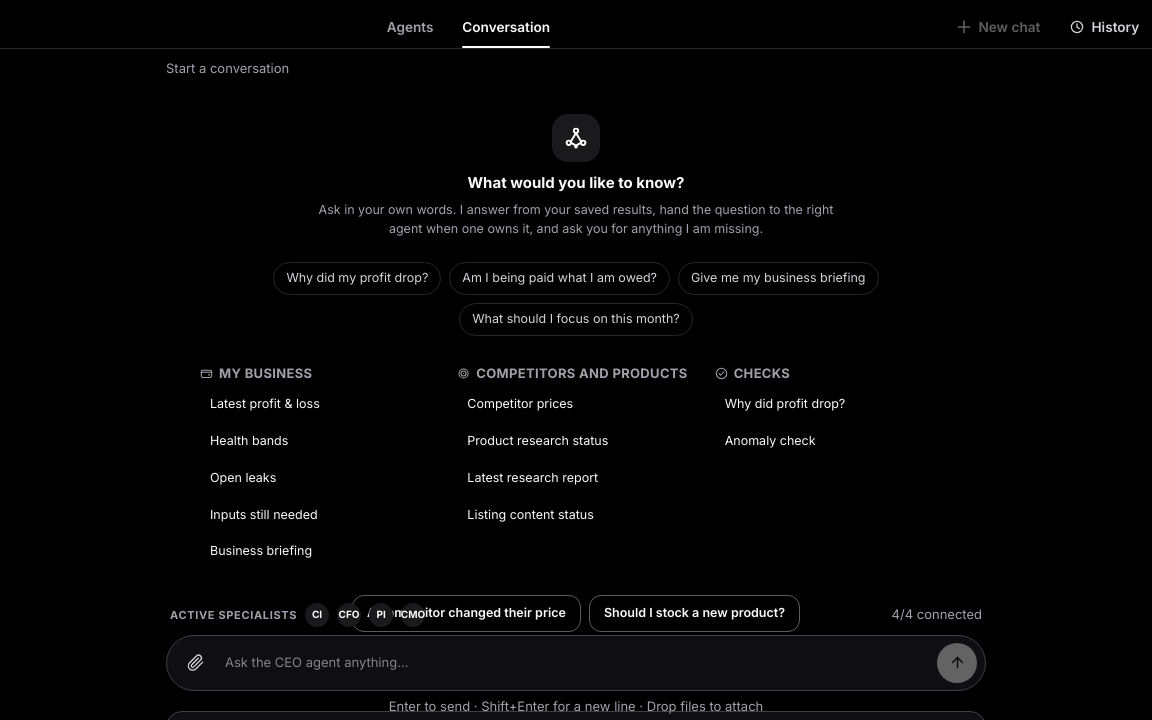
Test case: a question the server stored but has not answered (page refreshed while a turn was running) › is not claimed when the thread already ends with the CEO's answer
What coordinates should you click on to do the following:
click the button with test id "open-drawer"
I would click on:
 (1104, 27)
Its box is [1056,8,1151,46].
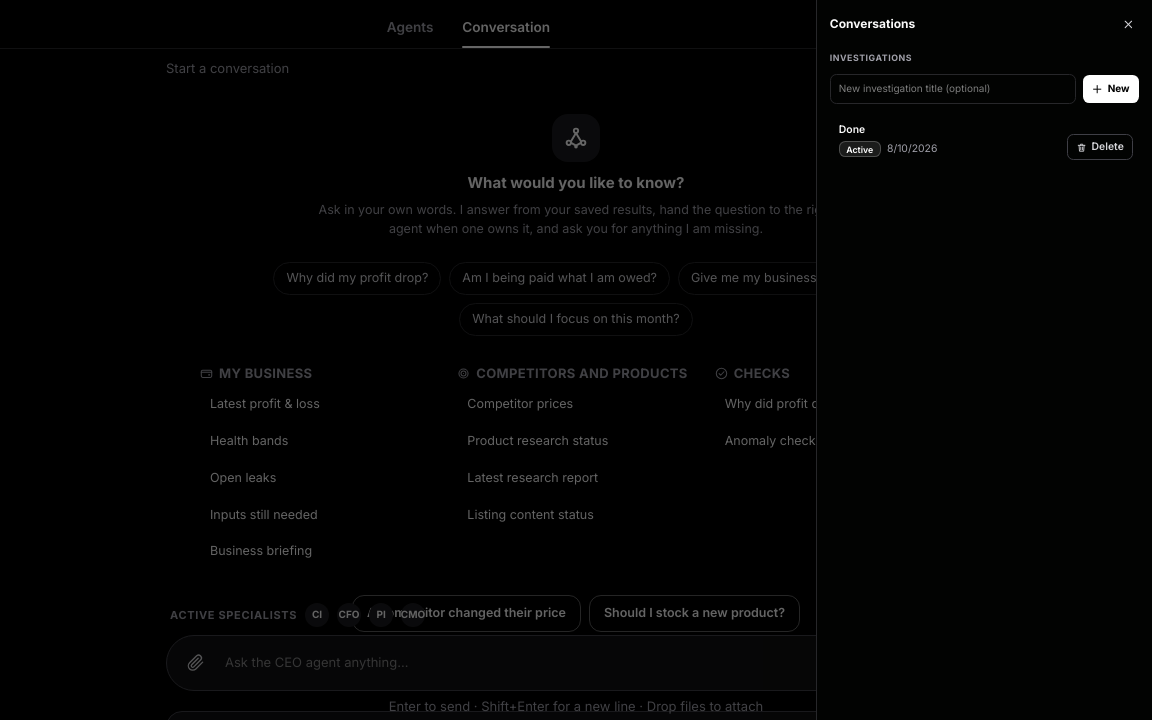
What coordinates should you click on to do the following:
click the button "Done Active 8/10/2026"
I would click on:
 (860, 149)
Its box is [830,113,1139,166].
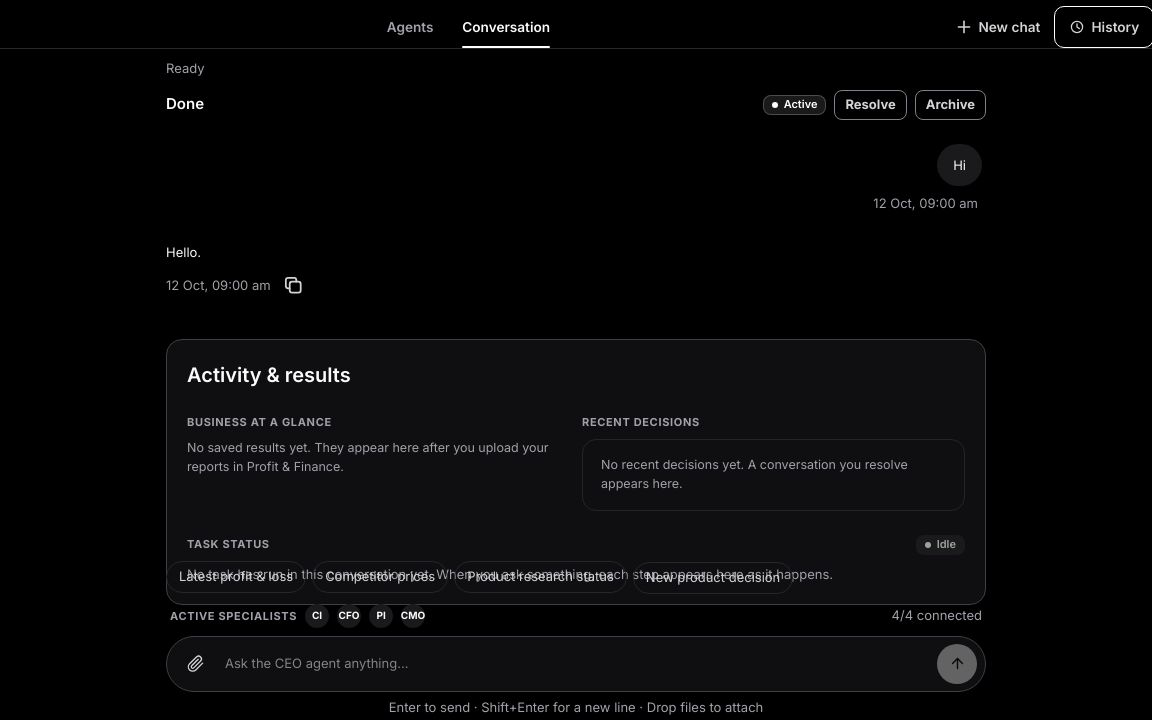
expect the element with test id "conversation" is shown: met, box [166,90,986,327]
